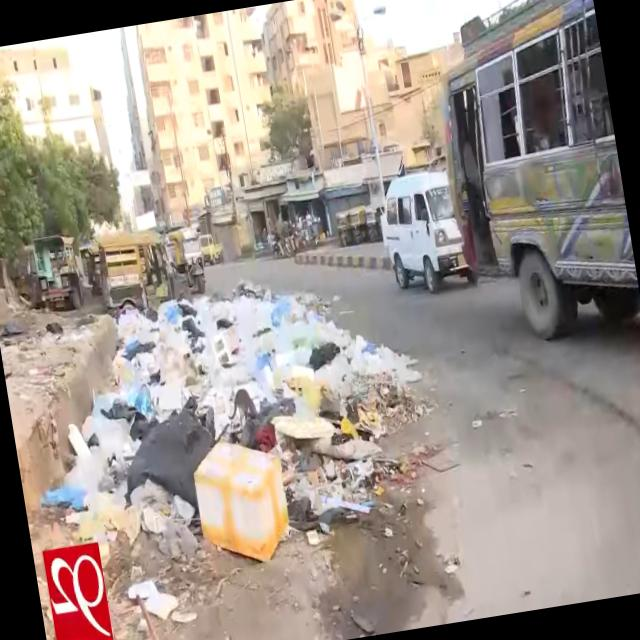high trash: (43, 280, 426, 560)
less trash: (128, 581, 197, 622)
